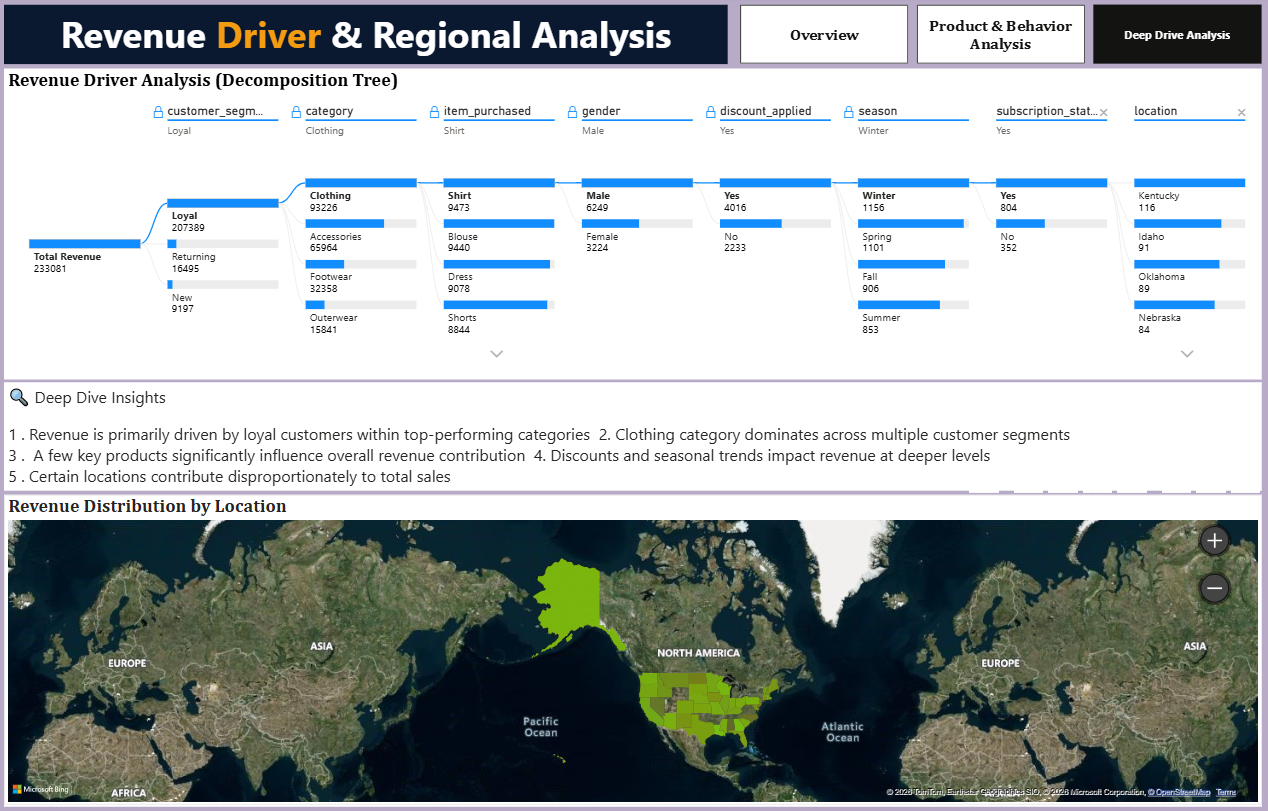

The page's visual inventory and layout, read from the dashboard file:
{"tool":"powerbi","page":{"name":"Deep Drive Analysis","canvas":[1500,960],"ordinal":2},"visuals":[{"type":"decompositionTreeVisual","title":"Revenue Driver Analysis (Decomposition Tree)","fields":{"Analyze":["final_dashboard_data.Total Revenue"],"ExplainBy":["final_dashboard_data.customer_segment","final_dashboard_data.category","final_dashboard_data.item_purchased","final_dashboard_data.gender","final_dashboard_data.discount_applied","final_dashboard_data.season","final_dashboard_data.subscription_status","final_dashboard_data.location"]},"box":[11.3,85,1475.2,364.8],"z":0},{"type":"textbox","box":[11.3,9.7,849,69.4],"z":1000},{"type":"filledMap","title":"Revenue Distribution by Location","fields":{"Category":["final_dashboard_data.location","final_dashboard_data.category"]},"box":[11.3,584.3,1475.2,364.8],"z":2000},{"type":"textbox","box":[11.3,453.5,1475.2,127.5],"z":3000},{"type":"pageNavigator","box":[874.8,9.7,611.7,69.4],"z":4000}]}

Visuals, with their boxes in screenshot pixels (x1, y1, x2, y2), scaled from the page's 1500x960 canvas onto the 1268x811 screenshot:
"Revenue Driver Analysis (Decomposition Tree)" decompositionTreeVisual: {"left": 10, "top": 72, "right": 1257, "bottom": 380}
textbox: {"left": 10, "top": 8, "right": 727, "bottom": 67}
"Revenue Distribution by Location" filledMap: {"left": 10, "top": 494, "right": 1257, "bottom": 802}
textbox: {"left": 10, "top": 383, "right": 1257, "bottom": 491}
pageNavigator: {"left": 739, "top": 8, "right": 1257, "bottom": 67}
